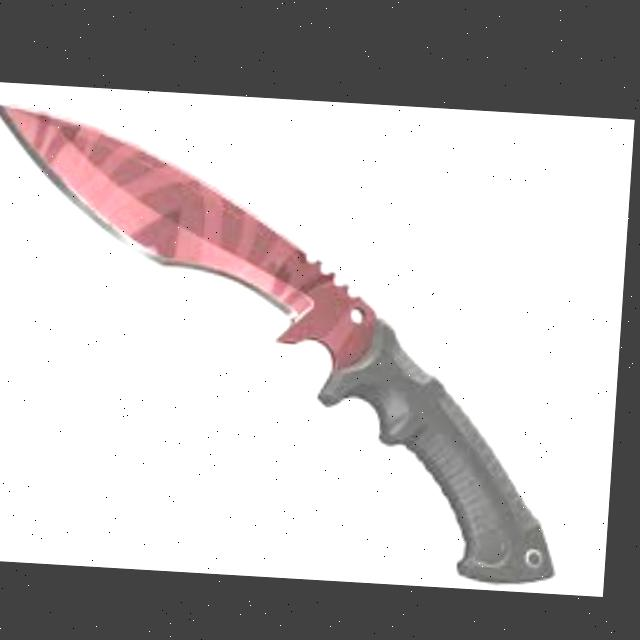Knife: (0, 97, 586, 579)
